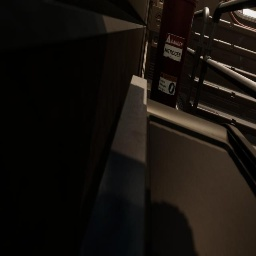NitrogenTank ,: (150, 0, 197, 108)
